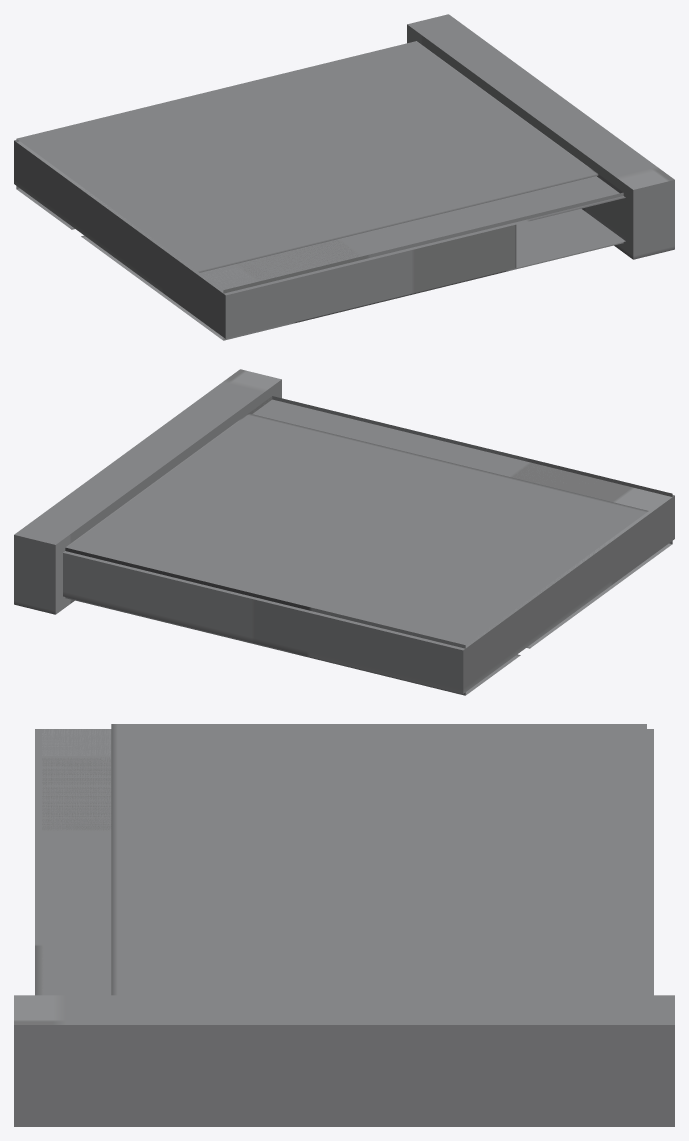
3 views of the same model, one above another, from view 1: azimuth 30°, elevation 25°; view 2: azimuth 150°, elevation 25°; view 3: azimuth 270°, elevation 25° (orthographic). The views are drawn at different scales.
Bounding box in the file's own units: 1.06 × 0.16 × 0.94.
